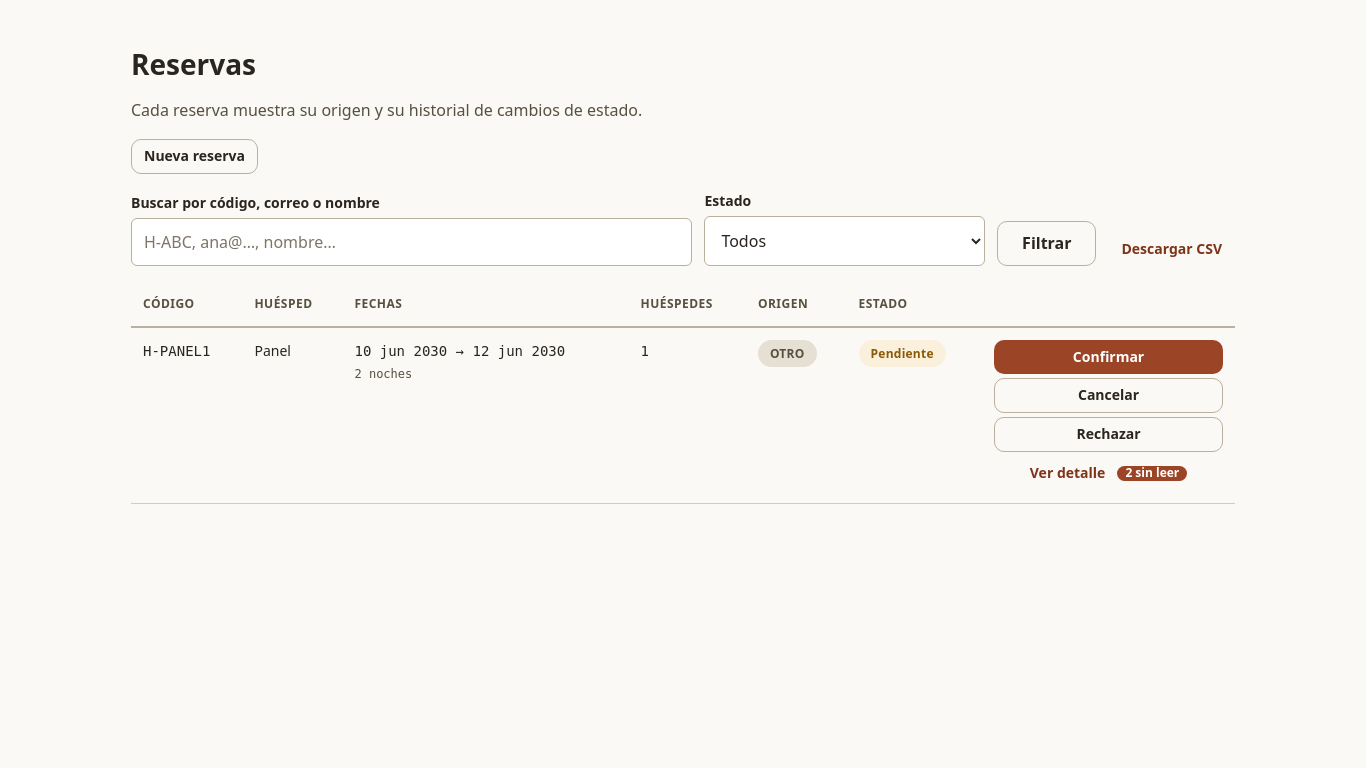
Scenario: mensajes nuevos en la lista de reservas › muestra el conteo de una reserva y lo quita cuando recepción abre su conversación
Expected: the heading "Reservas" is shown, x1=131 y1=45 x2=256 y2=83
Expected: the text "2 sin leer" is shown, x1=1117 y1=466 x2=1187 y2=481
Click the button "Ver detalle 2 sin leer" at (1109, 473), box x1=994 y1=456 x2=1223 y2=491
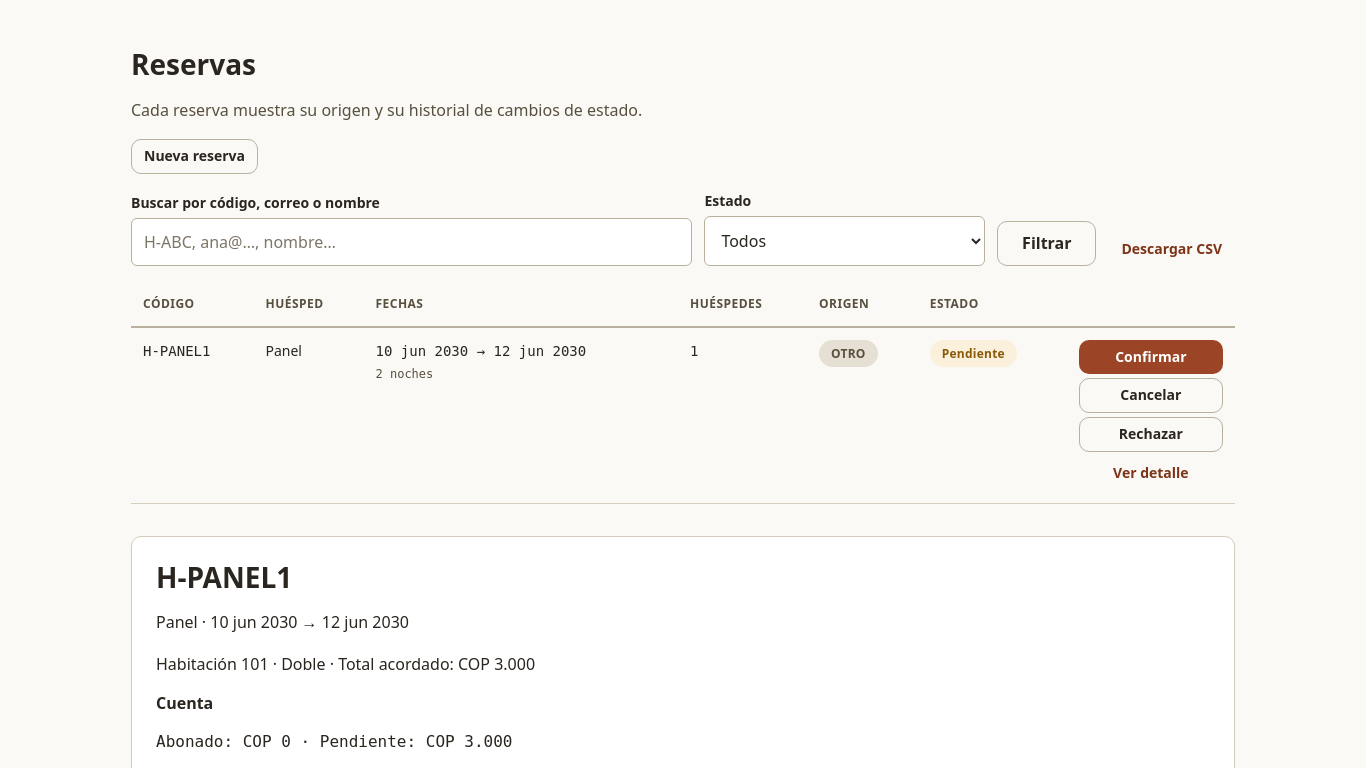
Now the text "2 sin leer" is gone
